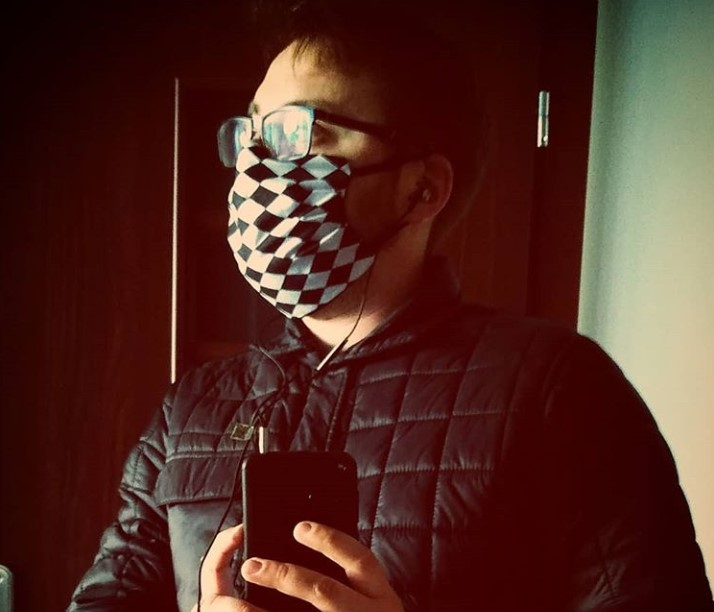face_with_mask: (216, 7, 480, 316)
